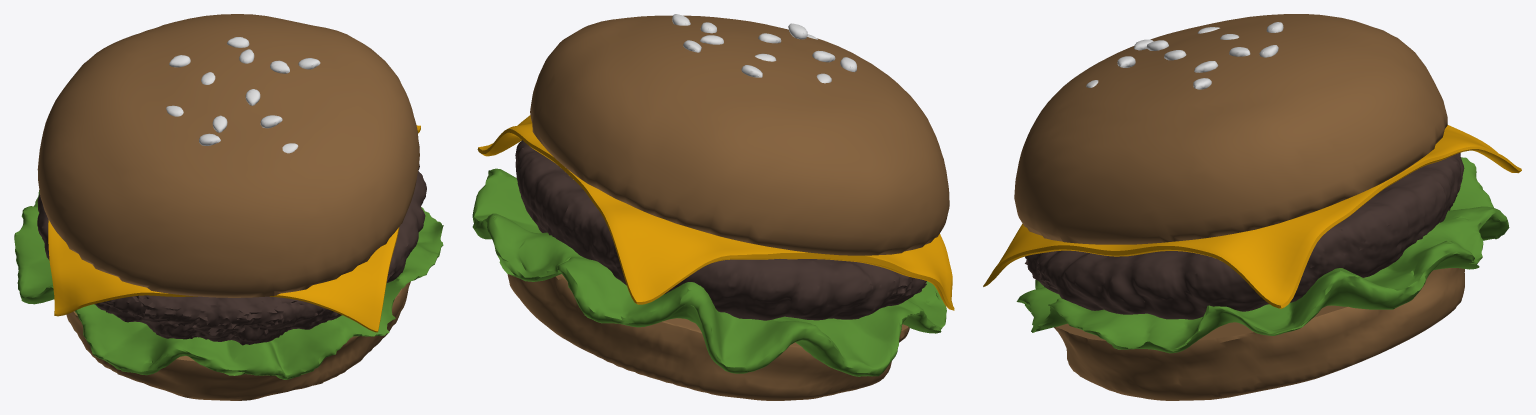
File: burger.glb
The picture shows the model from 3 angles, left to right: view 1: azimuth 30°, elevation 25°; view 2: azimuth 150°, elevation 25°; view 3: azimuth 270°, elevation 25°; orthographic projection. The views are drawn at different scales.
Visible parts, largest first — view 1: Object_4, Object_12, Object_6, Object_14, Object_8, Object_10; view 2: Object_4, Object_12, Object_6, Object_8, Object_14, Object_10; view 3: Object_4, Object_6, Object_8, Object_12, Object_14, Object_10.
Part boxes in pixels (box(x1,y1,x2,y2)): Object_4: box(37, 14, 419, 297); Object_12: box(14, 190, 443, 379); Object_6: box(37, 164, 426, 345); Object_14: box(48, 125, 420, 332); Object_8: box(66, 281, 410, 400); Object_10: box(166, 37, 320, 153); Object_4: box(530, 15, 949, 255); Object_12: box(472, 168, 946, 376); Object_6: box(515, 140, 926, 320); Object_8: box(507, 274, 909, 400); Object_14: box(477, 115, 954, 310); Object_10: box(672, 14, 856, 83); Object_4: box(1014, 14, 1447, 244); Object_6: box(1025, 153, 1464, 319); Object_8: box(1054, 268, 1464, 400); Object_12: box(1016, 157, 1509, 353); Object_14: box(983, 125, 1521, 308); Object_10: box(1086, 22, 1283, 89).
Size of the model in its own units: 0.2769 by 0.1961 by 0.2861.
